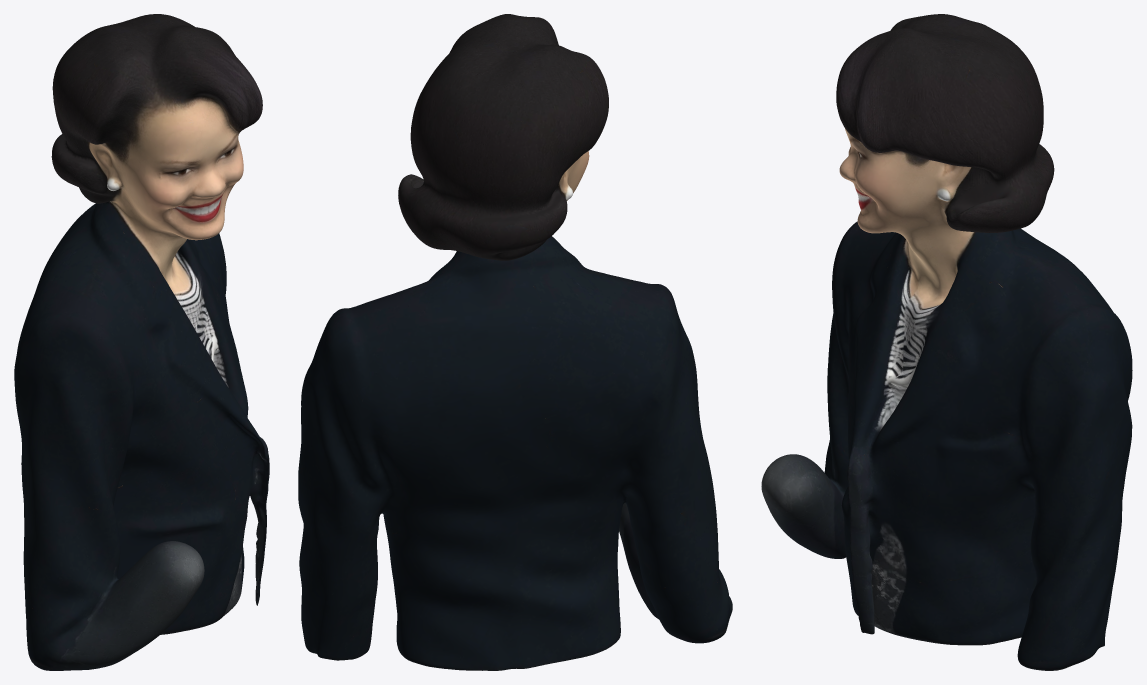
The model's file is Meshy_AI_Stars_and_Statesmansh_1022183726_texture(1) (1)-compressed.glb.
3 renders of one model, left to right at view 1: azimuth 30°, elevation 25°; view 2: azimuth 150°, elevation 25°; view 3: azimuth 270°, elevation 25°, orthographic. The views are drawn at different scales.
Visible parts, largest first — view 1: mesh_0; view 2: mesh_0; view 3: mesh_0.
Boxes of the visible parts, x1,y1,x2,y2 form: mesh_0: (14, 14, 269, 670); mesh_0: (298, 14, 732, 670); mesh_0: (761, 14, 1132, 670).
Size of the model in its own units: 1.04 by 1.9 by 1.1.
Materials: 1 (1 with a texture image).
